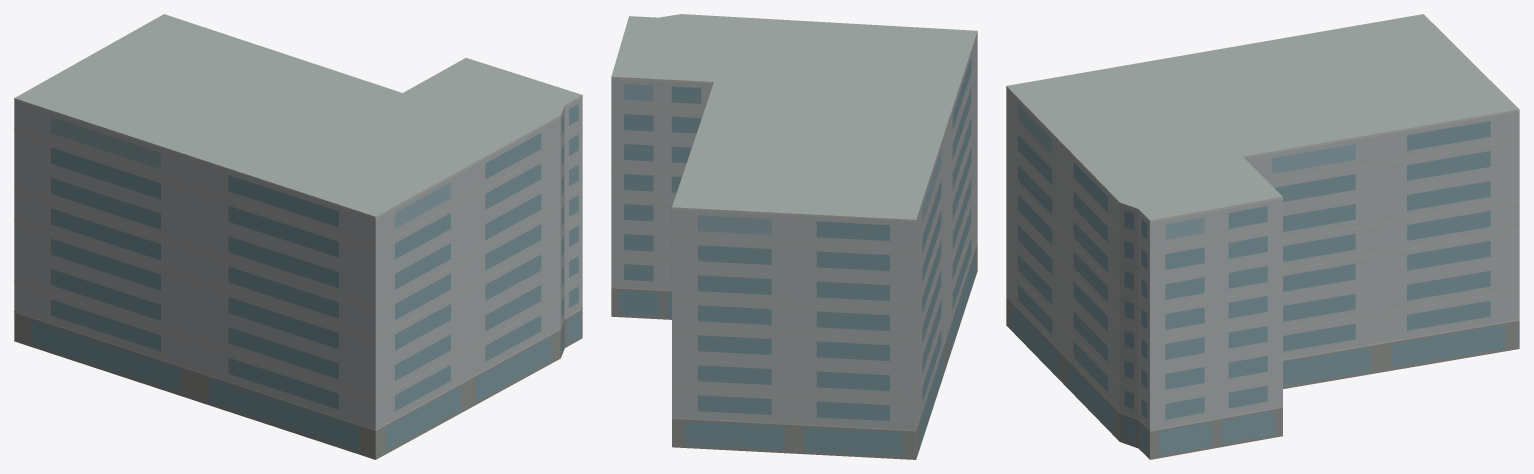
The model's file is survey-upis-32858782.glb.
3 renders of one model, left to right at view 1: azimuth 30°, elevation 25°; view 2: azimuth 150°, elevation 25°; view 3: azimuth 270°, elevation 25°, orthographic.
Parts seen in each view (by area): view 1: survey-upis-32858782.tmp; view 2: survey-upis-32858782.tmp; view 3: survey-upis-32858782.tmp.
Part boxes in pixels (bbox=[...]): survey-upis-32858782.tmp: bbox=[14, 14, 582, 459]; survey-upis-32858782.tmp: bbox=[611, 14, 977, 459]; survey-upis-32858782.tmp: bbox=[1006, 14, 1519, 459].
Bounding box in the file's own units: 47.08 × 25.45 × 49.47.
